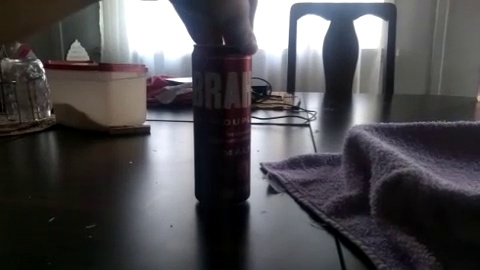duplo_malte: (188, 53, 256, 205)
